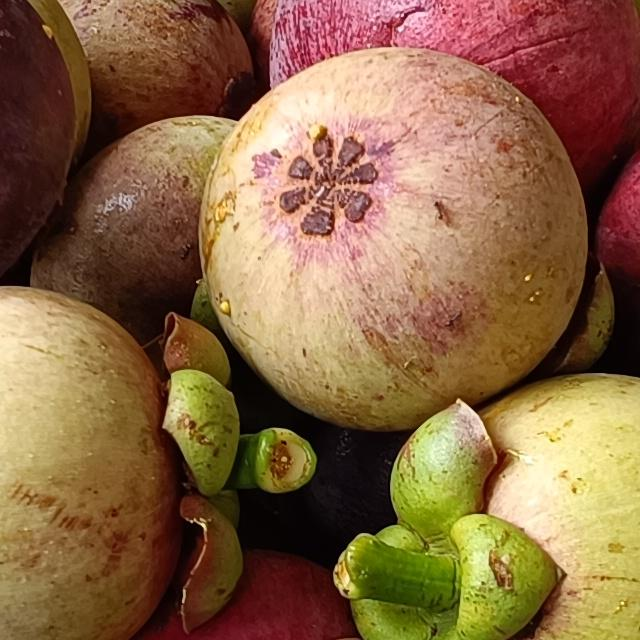mangosteen: (155, 25, 542, 348), (0, 221, 268, 640), (0, 314, 295, 640), (32, 61, 342, 341), (348, 358, 640, 640), (288, 0, 640, 221), (2, 0, 345, 181), (0, 0, 155, 331), (562, 21, 640, 294)
